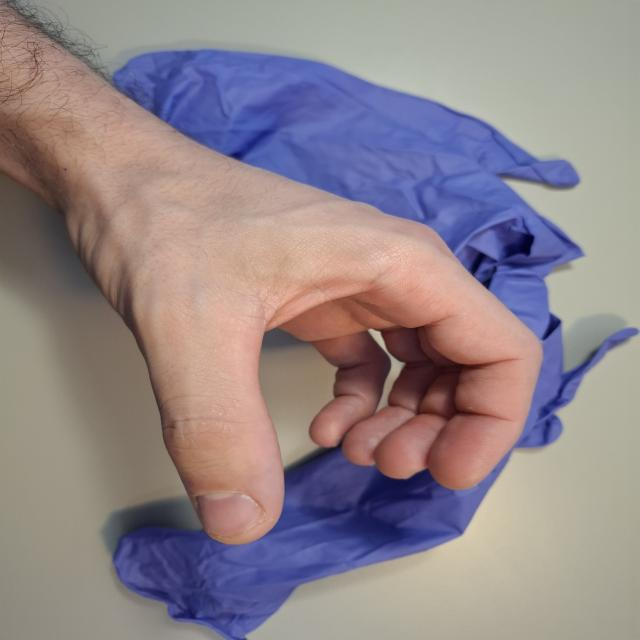glove_off: (49, 122, 548, 549)
